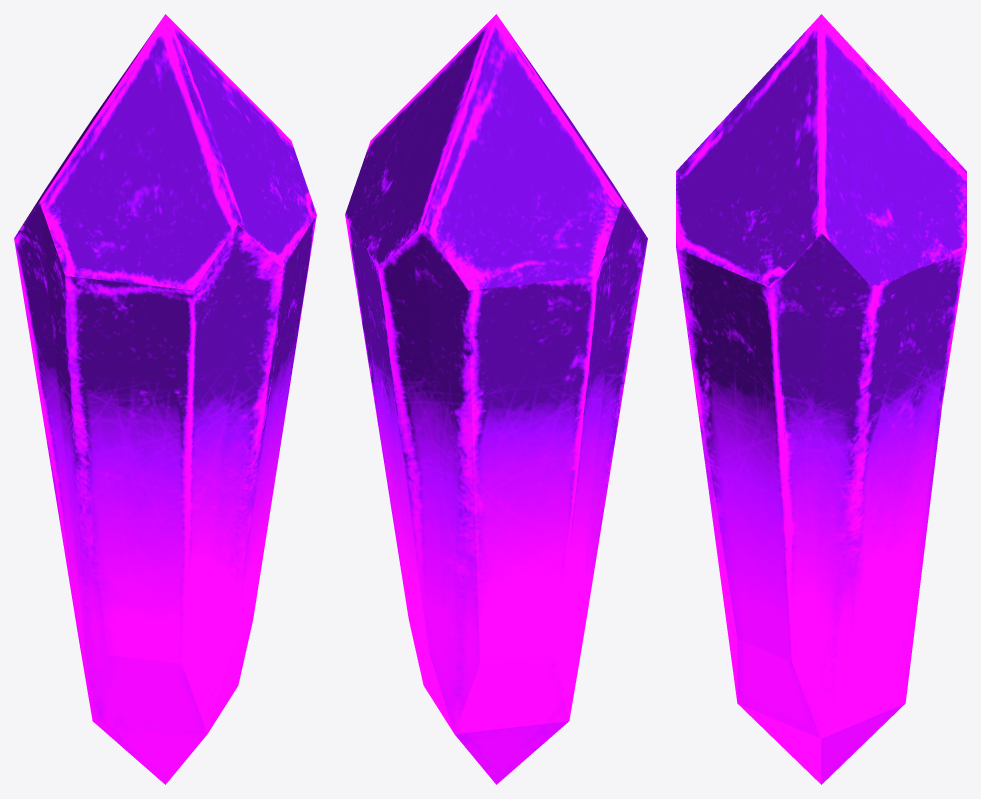
File: Crystal Final model.fbx
3 renders of one model, left to right at view 1: azimuth 30°, elevation 25°; view 2: azimuth 150°, elevation 25°; view 3: azimuth 270°, elevation 25°, orthographic.
Parts seen in each view (by area): view 1: Crystal_Highpoly; view 2: Crystal_Highpoly; view 3: Crystal_Highpoly.
Part boxes in pixels (<box>): Crystal_Highpoly: <box>14,14,316,784</box>; Crystal_Highpoly: <box>345,14,647,784</box>; Crystal_Highpoly: <box>676,14,966,784</box>.
Size of the model in its own units: 1003 by 2935 by 1003.
